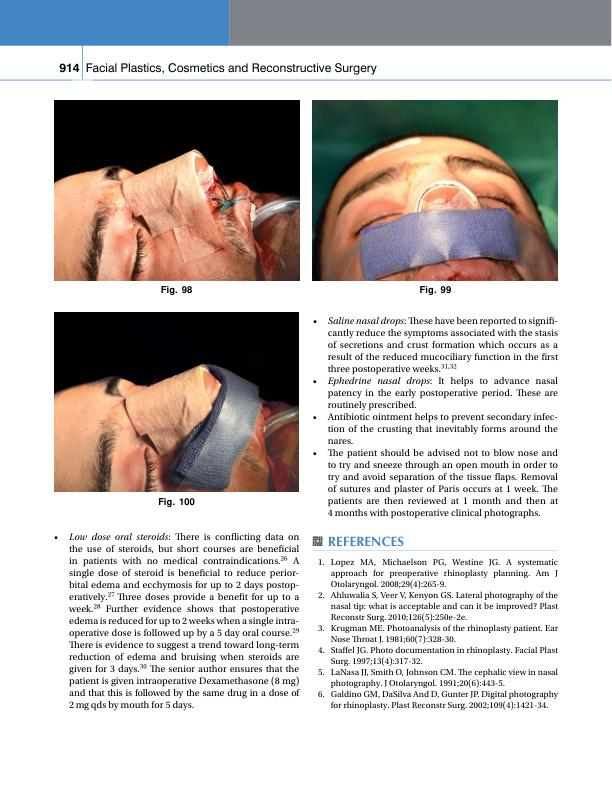caption: (157, 496, 197, 508), (418, 284, 453, 297), (160, 284, 193, 296)
header: (85, 60, 379, 75)
image: (53, 98, 301, 282), (312, 99, 558, 282)
section-heading: (327, 534, 403, 548)
text: (311, 313, 560, 519), (51, 527, 302, 714), (317, 553, 560, 712)
